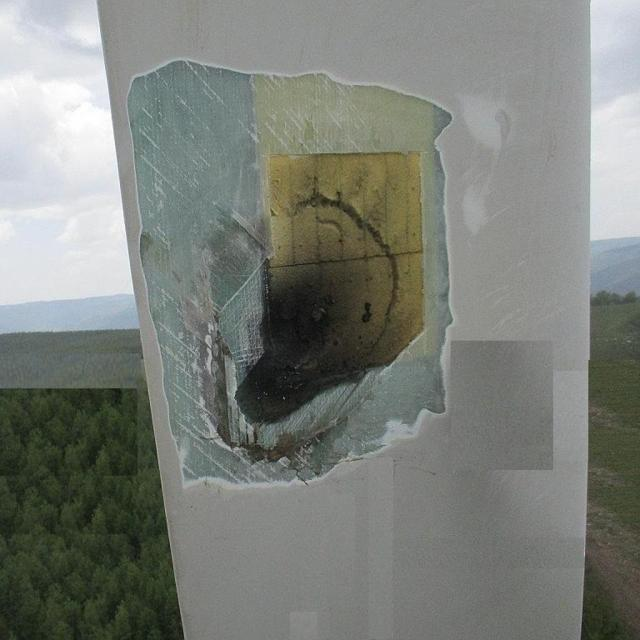crack: (228, 177, 420, 444)
surface_peeling: (130, 156, 216, 464), (126, 62, 454, 140), (424, 158, 455, 418)
